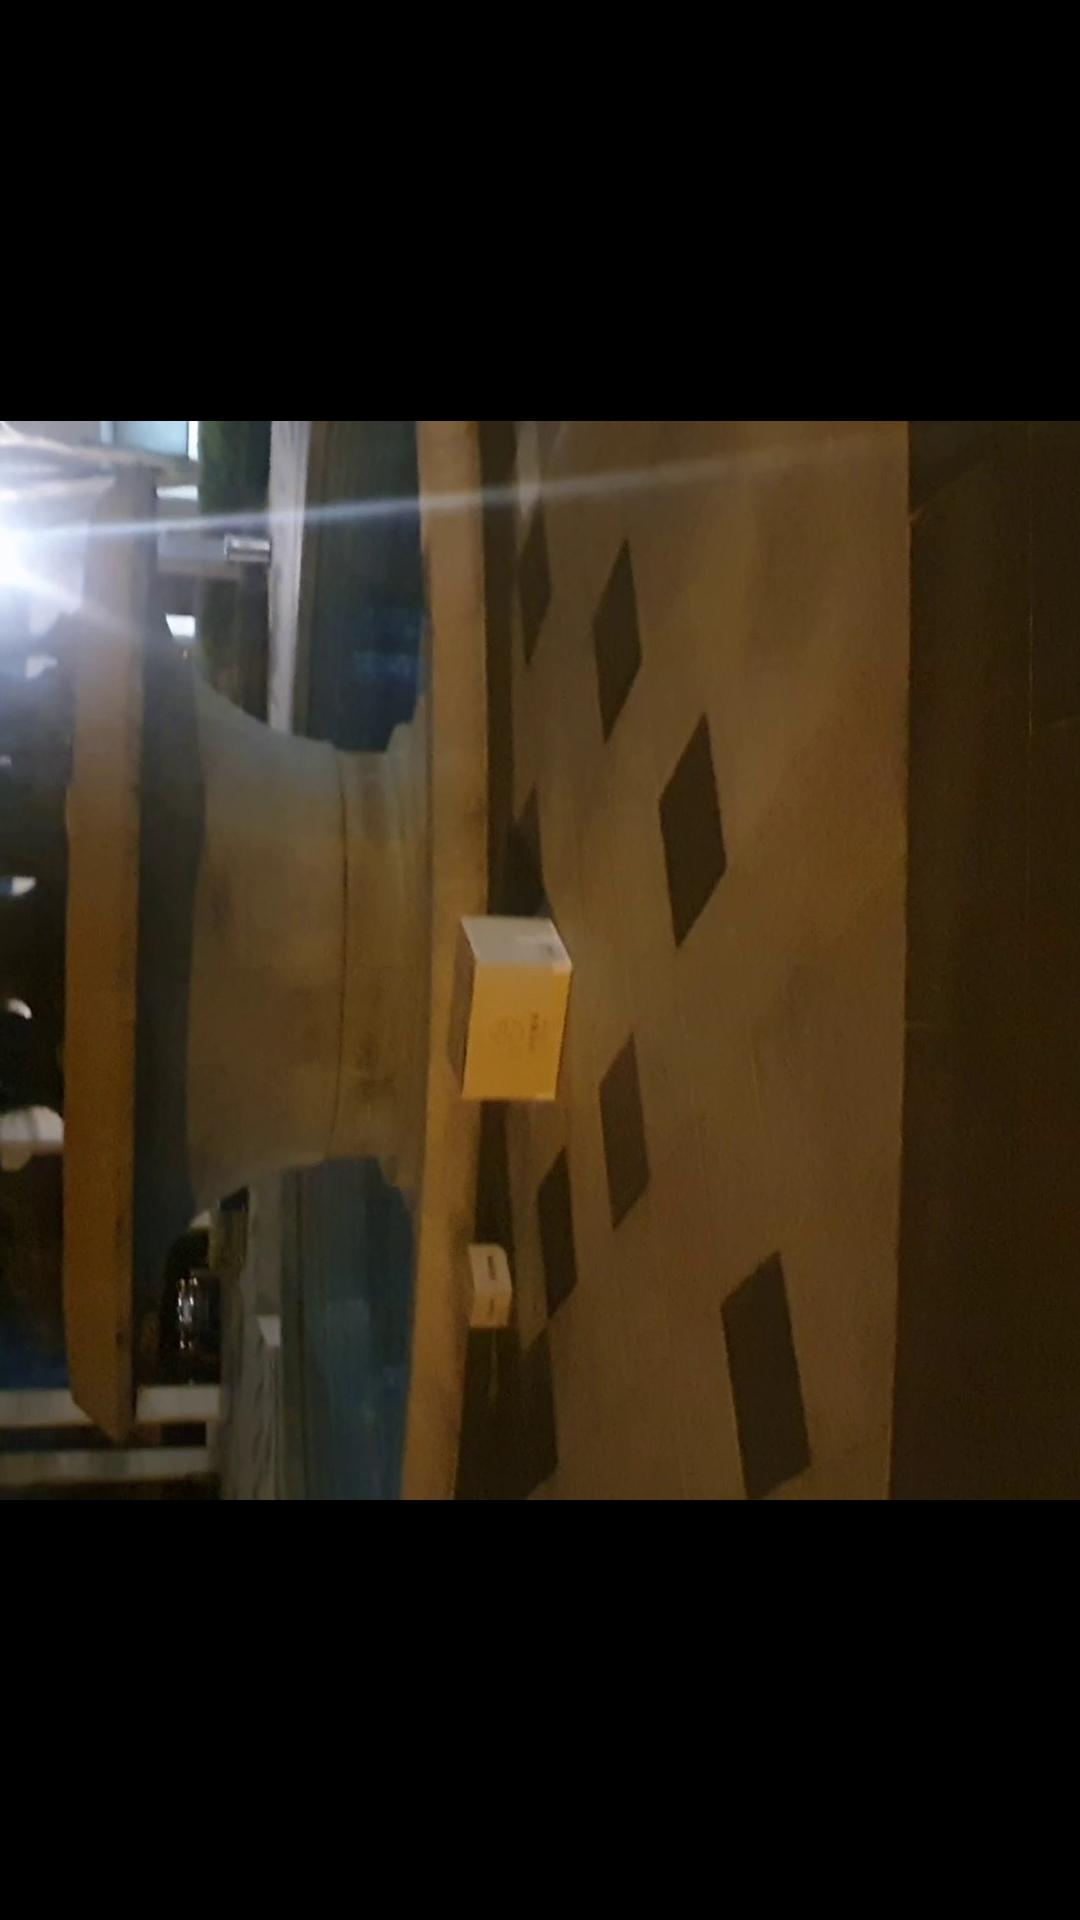Box: (443, 903, 580, 1102), (438, 1237, 525, 1335)
